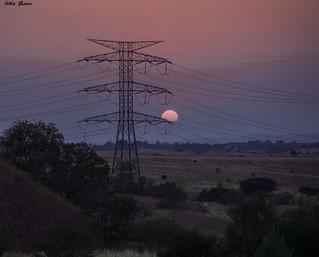power_tower: (79, 31, 175, 193)
